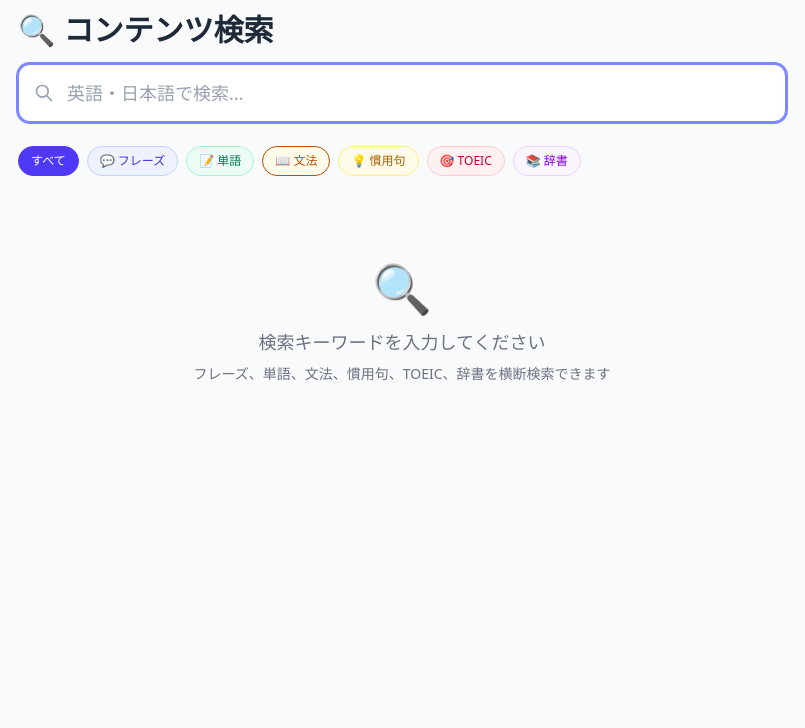
Test: SearchPage › surfaces matching results grouped with a total count after the debounce
Type "you" into the field named "コンテンツを検索".
click(402, 93); type("you")  # box [18,64,786,122]
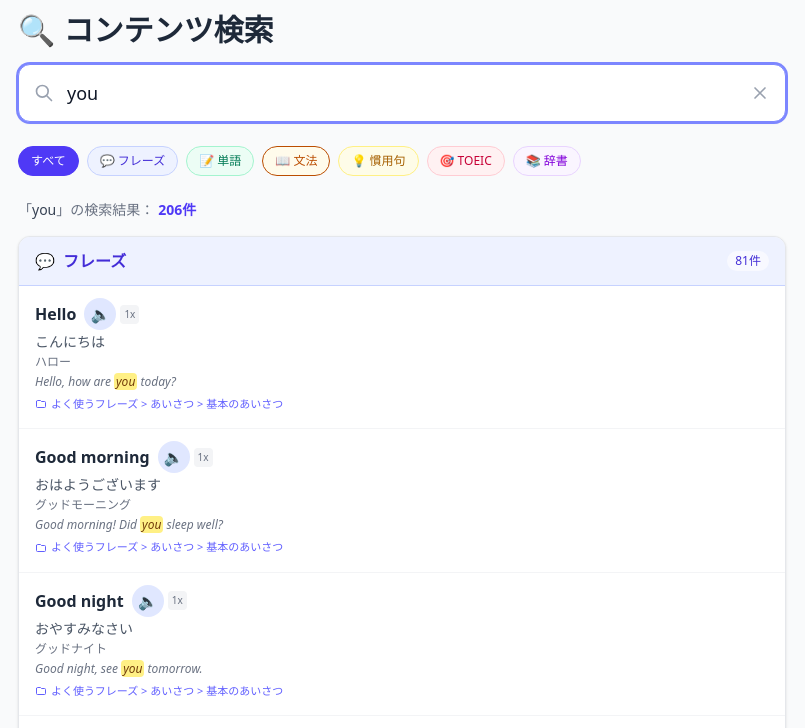
expect the heading "💬 フレーズ" is shown: met, box [35,249,126,273]
expect the list item that starts with "Hello" is shown: met, box [19,286,785,429]
